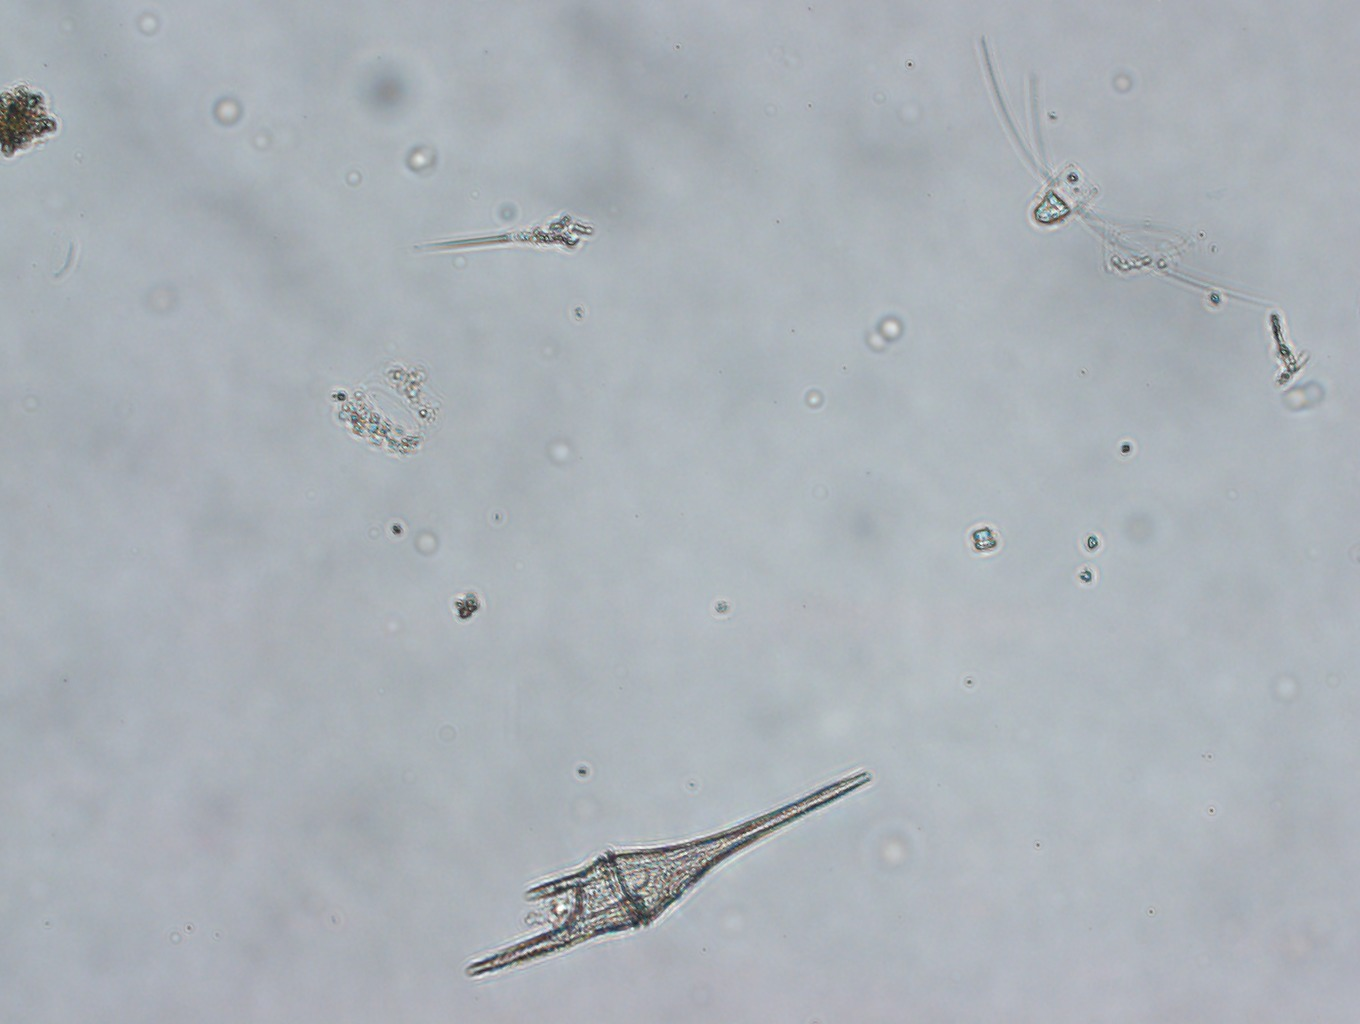ceratium furca: (464, 766, 875, 975)
chaetoceros: (977, 28, 1284, 309)
